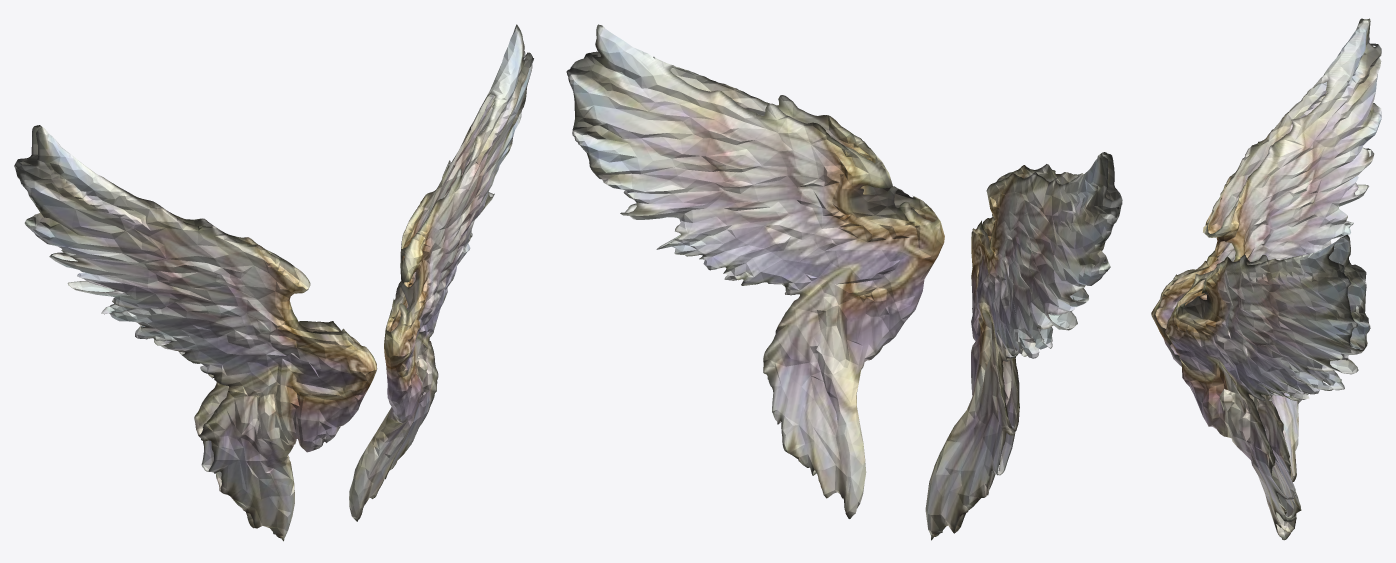
Rendered from angelic.glb.
The picture shows the model from 3 angles, left to right: view 1: azimuth 30°, elevation 25°; view 2: azimuth 150°, elevation 25°; view 3: azimuth 270°, elevation 25°; orthographic projection. The views are drawn at different scales.
Visible parts, largest first — view 1: geometry_0; view 2: geometry_0; view 3: geometry_0.
Part boxes in pixels (x1,y1,x2,y2): geometry_0: (14, 24, 533, 541); geometry_0: (566, 24, 1122, 540); geometry_0: (1151, 18, 1381, 540).
Size of the model in its own units: 0.9865 by 0.8152 by 0.4176.
1 material, 1 textured.
